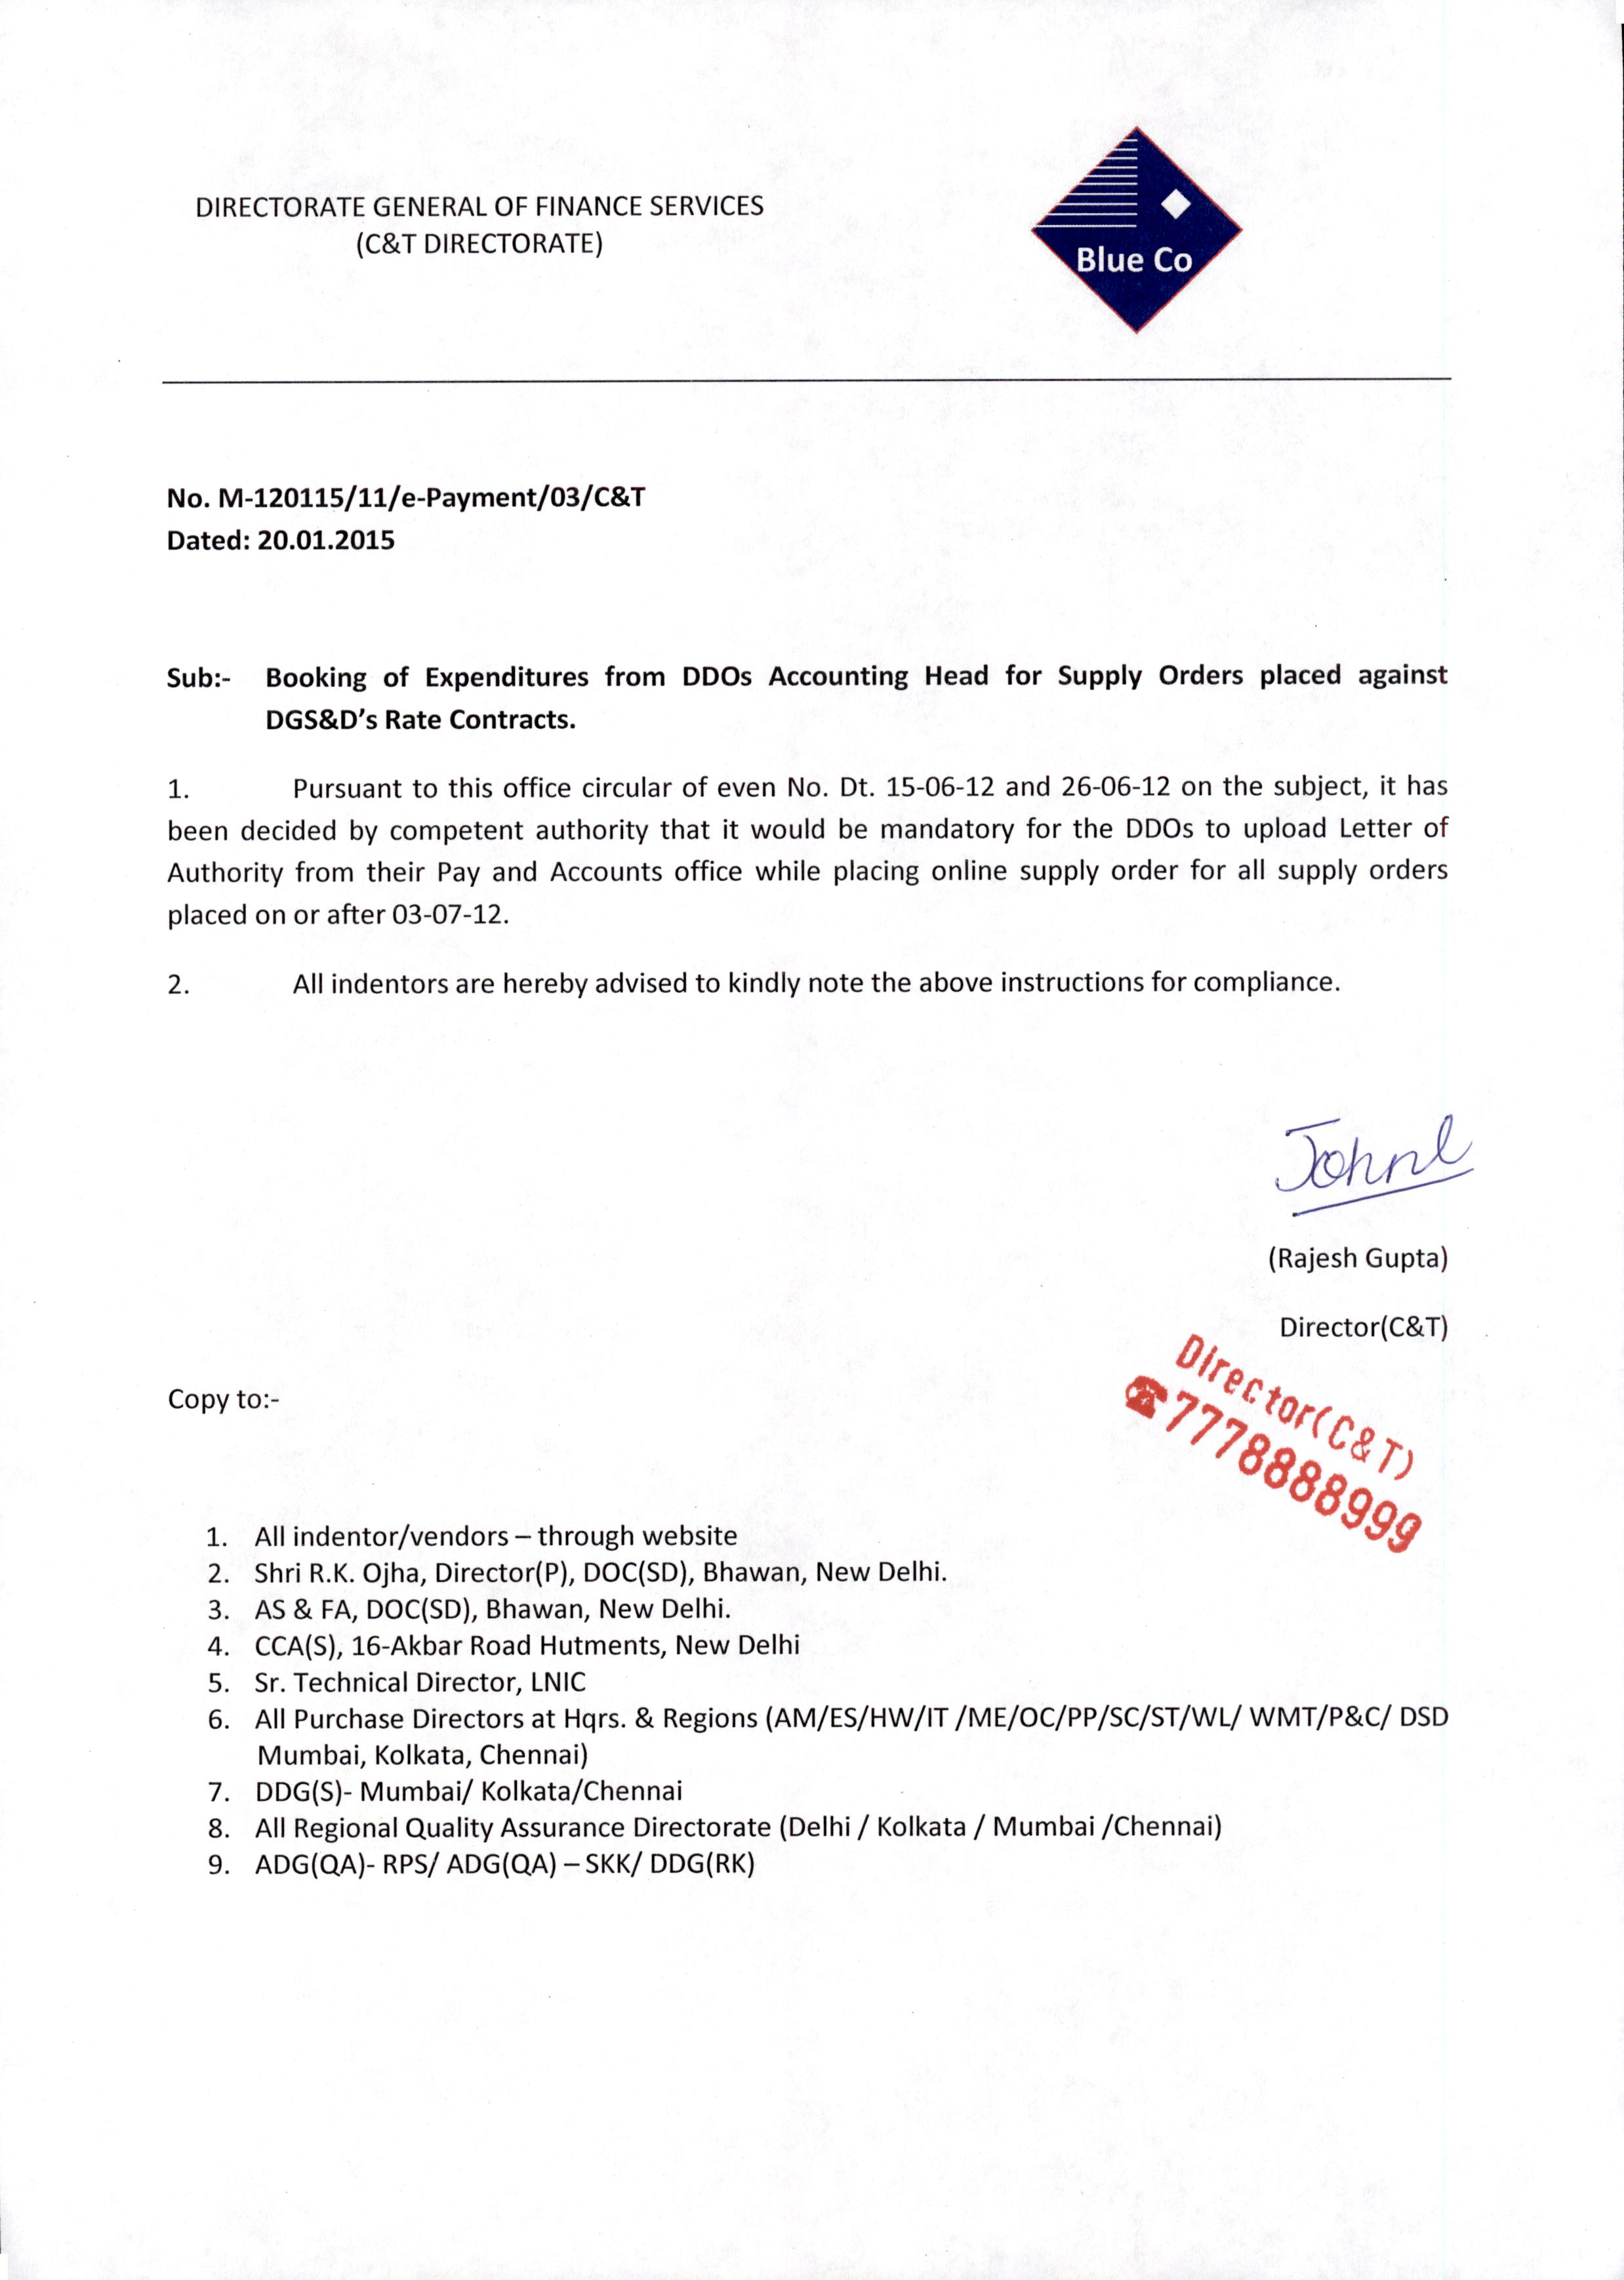Signature: (1262, 1104, 1487, 1231)
